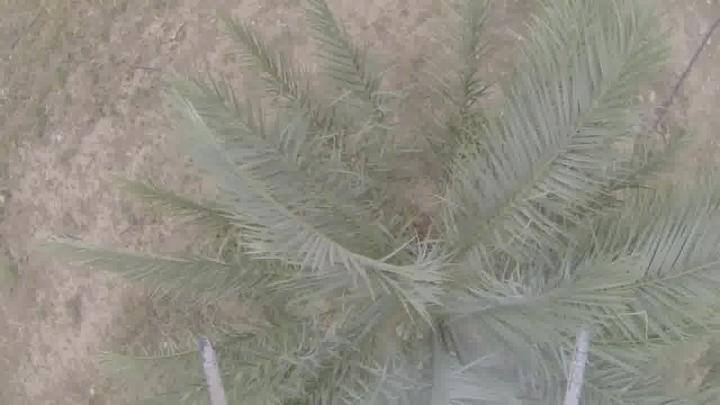Date-Palm-Crown: (207, 95, 692, 404)
